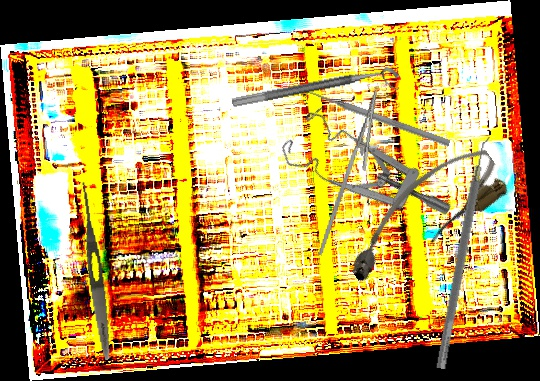Cannula: (329, 136, 514, 293)
Dressing Forceps: (75, 180, 115, 361)
Fixation Ring: (231, 65, 403, 121)
Needle Holder: (318, 86, 390, 263)
Pusher: (303, 86, 452, 148)
Spatula Surgical: (435, 135, 497, 371)
Speculum: (270, 80, 455, 273)
